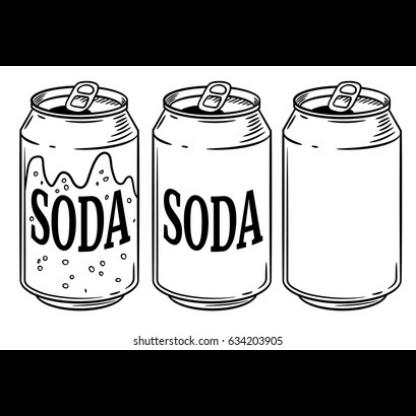Lid_Open: (279, 81, 405, 314), (46, 77, 102, 123), (302, 81, 366, 119), (184, 76, 236, 121)
Tin_Can: (144, 80, 276, 314), (15, 78, 142, 314)
